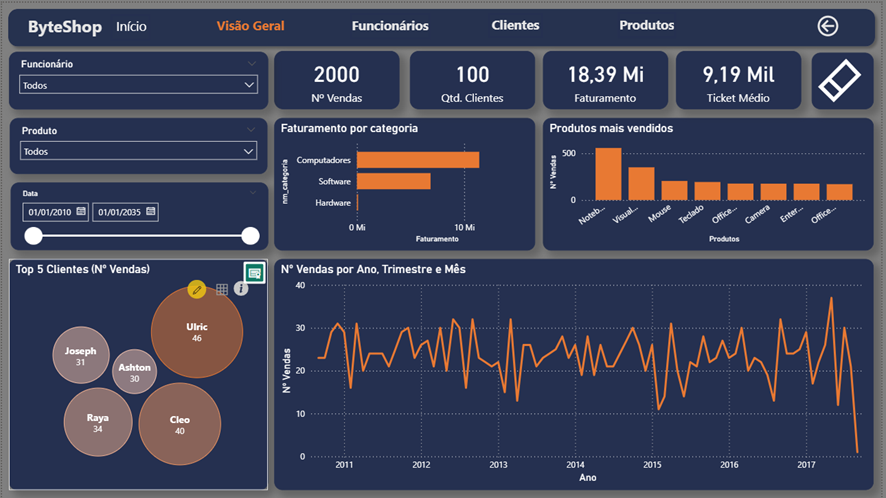

The dashboard page shown, as its layout file describes it:
{"tool":"powerbi","page":{"name":"Visão Geral","canvas":[1280,720],"ordinal":1},"visuals":[{"type":"clusteredColumnChart","title":"Produtos mais vendidos","fields":{"Category":["public dim_produto.nm_produto"],"Y":["_Medidas.Nº Vendas"]},"box":[787.5,167.5,481.2,192.5],"z":0},{"type":"card","fields":{"Values":["_Medidas.Nº Vendas"]},"box":[396.2,70,182.5,85],"z":1000},{"type":"actionButton","box":[1178.8,72.5,90,82.5],"z":2000},{"type":"slicer","fields":{"Values":["public dim_funcionario.nm_funcionario"]},"box":[10,71.2,377.5,83.8],"z":3000},{"type":"slicer","fields":{"Values":["public dim_produto.nm_produto"]},"box":[11.2,167.5,375,81.2],"z":4000},{"type":"slicer","fields":{"Values":["public dim_data.desc_data_completa"]},"box":[12.5,261.2,375,98.8],"z":5000},{"type":"packedBubble563FBEFA65CC43A48496B6BB533D9890","title":"Top 5 Clientes (Nº Vendas)","fields":{"measure":["_Medidas.Nº Vendas"],"category":["public dim_cliente.nm_cliente"]},"box":[10,372.5,377.5,336.2],"z":6000},{"type":"clusteredBarChart","title":"Faturamento por categoria","fields":{"Category":["public dim_produto.nm_categoria"],"Y":["_Medidas.Faturamento"]},"box":[396.2,167.5,380,192.5],"z":7000},{"type":"shape","box":[0,0,1280,72.5],"z":8000},{"type":"textbox","box":[32.5,12.5,125,48.8],"z":9000},{"type":"textbox","box":[307,15.2,108.8,38.8],"z":10000},{"type":"textbox","box":[497,15.2,135,41.2],"z":11000},{"type":"textbox","box":[707.5,13.8,80,41.2],"z":12000},{"type":"textbox","box":[885.8,14,105,41.2],"z":13000},{"type":"lineChart","fields":{"Y":["_Medidas.Nº Vendas"],"Category":["public dim_data.nk_data.Variation.Hierarquia de datas.Ano","public dim_data.nk_data.Variation.Hierarquia de datas.Trimestre","public dim_data.nk_data.Variation.Hierarquia de datas.Mês","public dim_data.nk_data.Variation.Hierarquia de datas.Dia"]},"box":[396.2,372.5,872.5,336.2],"z":14000},{"type":"card","fields":{"Values":["_Medidas.Qtd. Clientes"]},"box":[593.8,70,182.5,85],"z":15000},{"type":"card","fields":{"Values":["_Medidas.Faturamento"]},"box":[787.5,70,182.5,85],"z":16000},{"type":"card","fields":{"Values":["_Medidas.Ticket Médio"]},"box":[981.2,70,182.5,85],"z":17000},{"type":"actionButton","box":[506.2,15,117.5,38.8],"z":18000},{"type":"actionButton","box":[707.5,15,80,36.2],"z":19000},{"type":"actionButton","box":[896.2,13.8,85,37.5],"z":20000},{"type":"textbox","box":[161.2,16.2,65,41.2],"z":21000},{"type":"actionButton","box":[157.5,16.2,58.8,38.8],"z":22000},{"type":"actionButton","box":[1182.5,13.8,41.2,40],"z":23000}]}

Visuals, with their boxes in screenshot pixels (x1, y1, x2, y2), scaled from the page's 1280x720 canvas onto the 886x498 screenshot:
"Produtos mais vendidos" clusteredColumnChart: 545/116/878/249
card - _Medidas.Nº Vendas: 274/48/401/107
actionButton: 816/50/878/107
slicer - public dim_funcionario.nm_funcionario: 7/49/268/107
slicer - public dim_produto.nm_produto: 8/116/267/172
slicer - public dim_data.desc_data_completa: 9/181/268/249
"Top 5 Clientes (Nº Vendas)" packedBubble563FBEFA65CC43A48496B6BB533D9890: 7/258/268/490
"Faturamento por categoria" clusteredBarChart: 274/116/537/249
shape: 0/0/885/50
textbox: 22/9/109/42
textbox: 213/11/288/37
textbox: 344/11/437/39
textbox: 490/10/545/38
textbox: 613/10/686/38
lineChart - _Medidas.Nº Vendas x public dim_data.nk_data.Variation.Hierarquia de datas.Ano: 274/258/878/490
card - _Medidas.Qtd. Clientes: 411/48/537/107
card - _Medidas.Faturamento: 545/48/671/107
card - _Medidas.Ticket Médio: 679/48/805/107
actionButton: 350/10/432/37
actionButton: 490/10/545/35
actionButton: 620/10/679/35
textbox: 112/11/157/40
actionButton: 109/11/150/38
actionButton: 819/10/847/37
